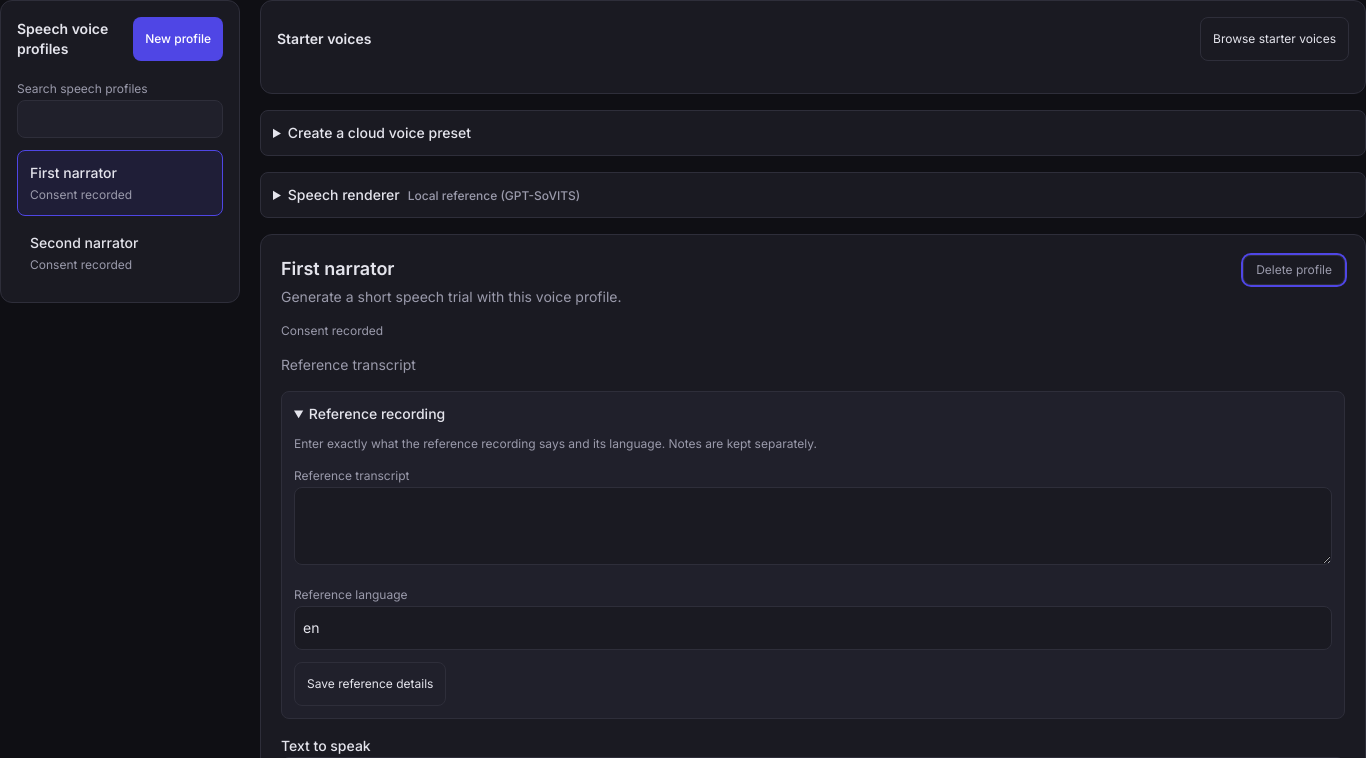
Test: requires a named deletion confirmation and restores keyboard focus on Escape
Click the button "Delete profile" at (1294, 270), box [1243,255,1345,285]
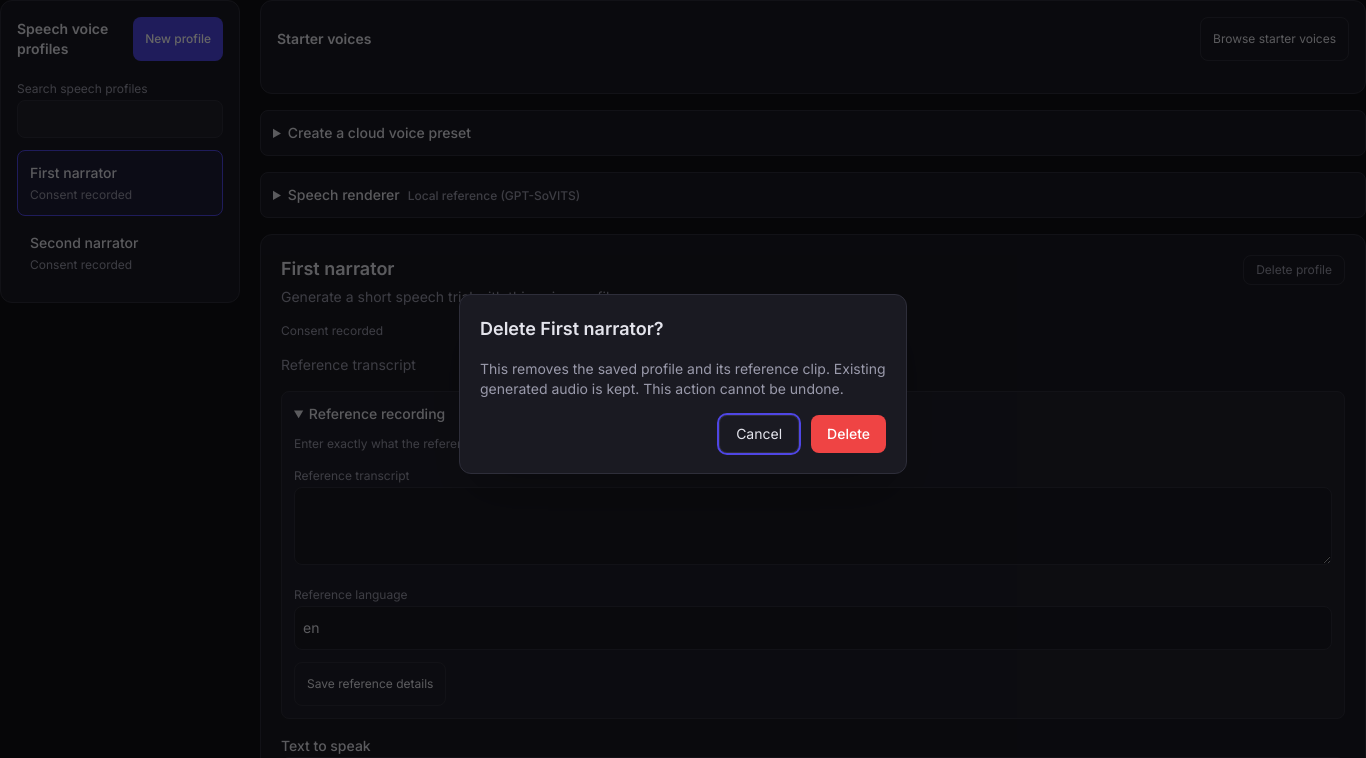
Now the dialog shows "Delete First narrator?", box [480,318,664,339]
Now the heading "Delete First narrator?" is shown, box [480,318,664,339]
Press Escape in the button "Cancel", box [719,415,799,453]
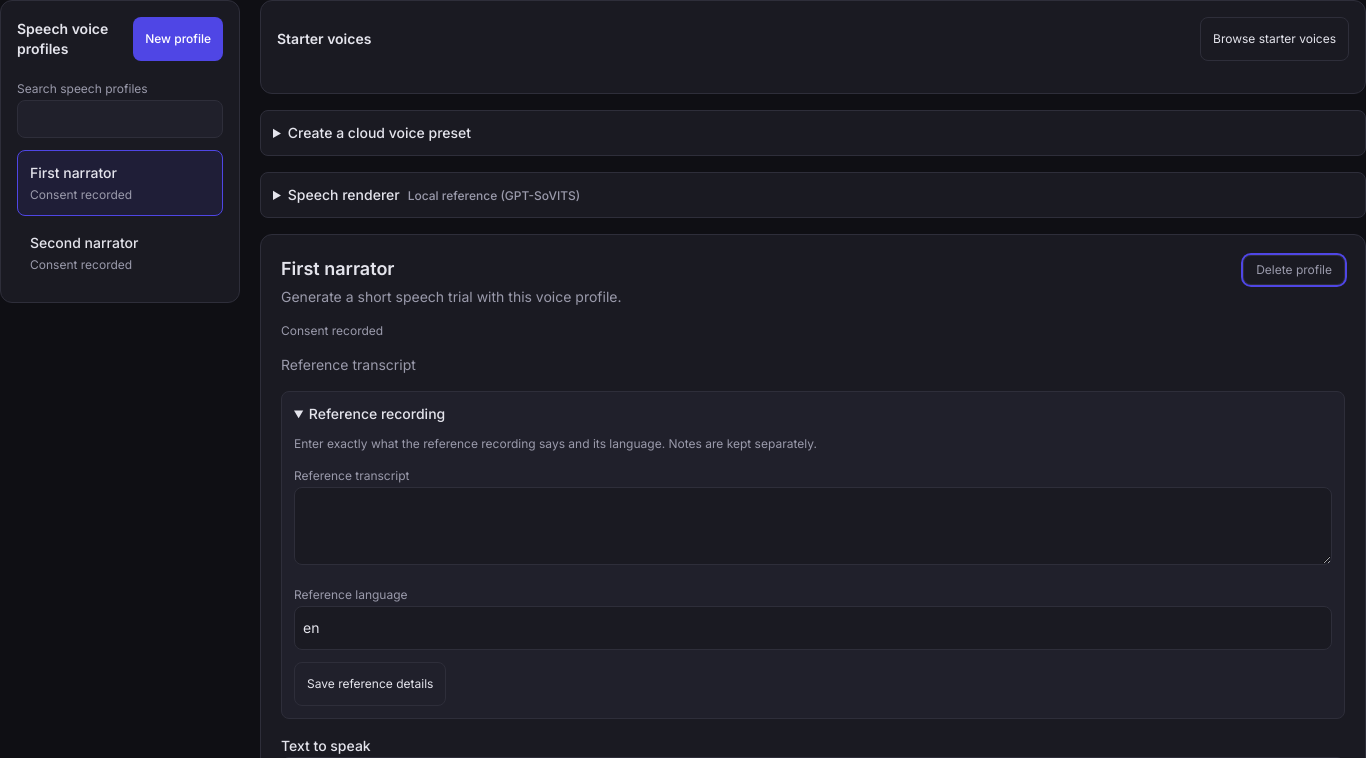
Now the dialog is gone
